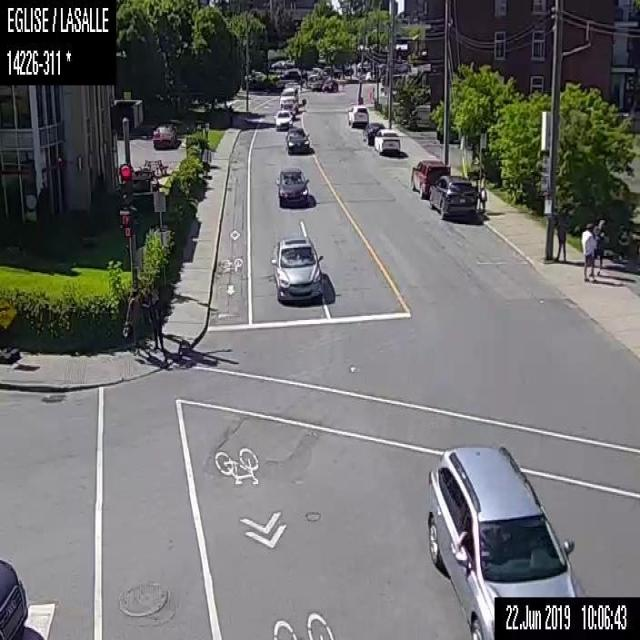pedestrian: (122, 286, 148, 354), (146, 285, 165, 352), (580, 217, 595, 283), (588, 216, 602, 278), (552, 209, 566, 263), (475, 167, 487, 215)
vehicle: (425, 442, 581, 638), (272, 233, 324, 304), (0, 557, 28, 639), (428, 175, 478, 218), (406, 156, 451, 201), (275, 167, 310, 205), (373, 128, 401, 155), (283, 126, 310, 153), (151, 122, 177, 149), (362, 121, 384, 146), (278, 85, 300, 110), (347, 103, 368, 128), (273, 108, 292, 130), (320, 76, 339, 93), (271, 58, 286, 68)
